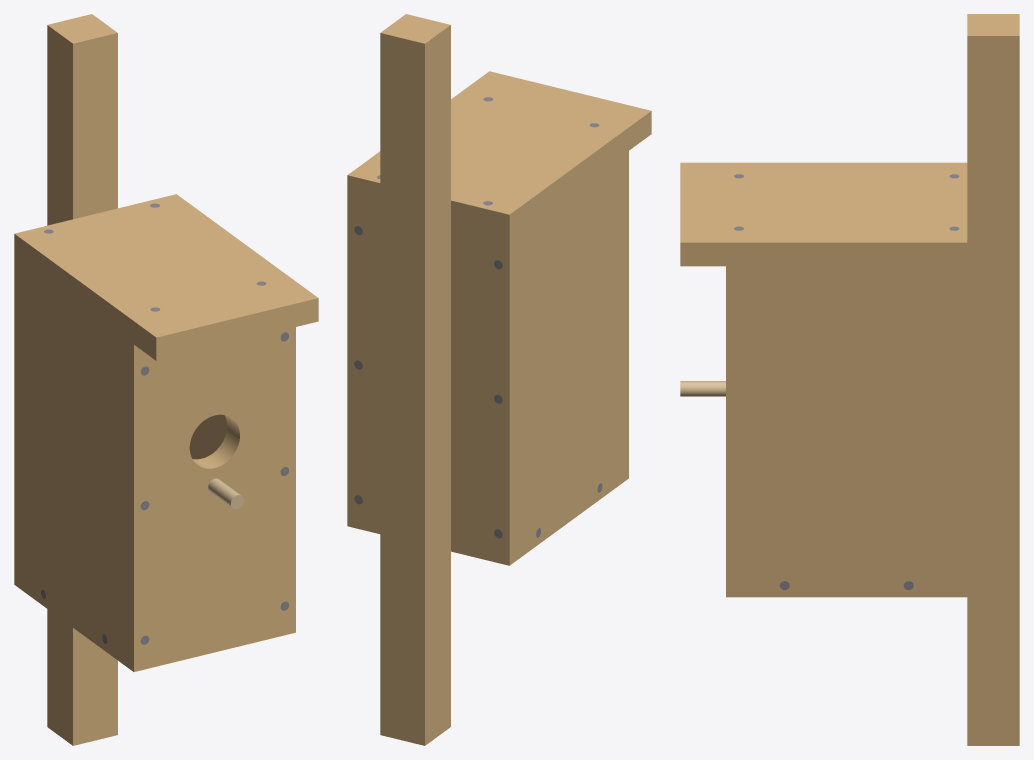
The picture shows the model from 3 angles, left to right: view 1: azimuth 30°, elevation 25°; view 2: azimuth 150°, elevation 25°; view 3: azimuth 270°, elevation 25°; orthographic projection.
Visible parts, largest first — view 1: front, side_1, roof, batten, back, side_2, perch; view 2: batten, back, side_1, roof, front; view 3: side_2, batten, roof, back, front, perch.
Part boxes in pixels (left/top/right/bottom): front: left=121, top=327, right=295, bottom=671; side_1: left=27, top=267, right=120, bottom=662; roof: left=14, top=194, right=318, bottom=360; batten: left=47, top=14, right=117, bottom=745; back: left=14, top=257, right=27, bottom=593; side_2: left=189, top=414, right=226, bottom=459; perch: left=208, top=478, right=244, bottom=509; batten: left=380, top=14, right=450, bottom=745; back: left=347, top=198, right=522, bottom=565; side_1: left=522, top=160, right=615, bottom=555; roof: left=347, top=71, right=651, bottom=237; front: left=616, top=151, right=628, bottom=487; side_2: left=752, top=266, right=941, bottom=597; batten: left=967, top=14, right=1019, bottom=745; roof: left=680, top=162, right=967, bottom=266; back: left=941, top=266, right=967, bottom=597; front: left=726, top=266, right=751, bottom=597; perch: left=680, top=381, right=725, bottom=396.
Size of the model in its own units: 145 by 600 by 260.
